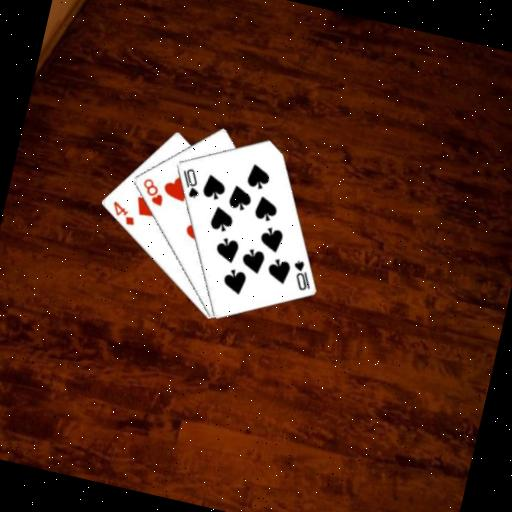10S: (285, 256, 317, 294), (175, 163, 206, 201)
4D: (106, 197, 140, 228)
8H: (136, 174, 169, 208)
